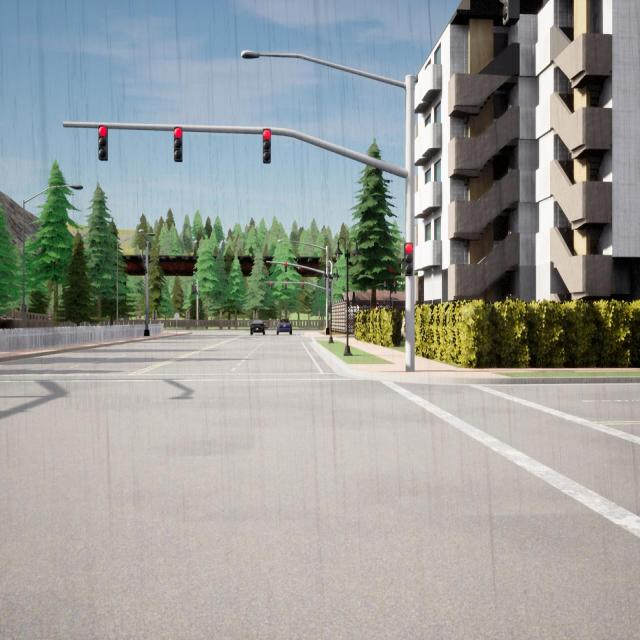Traffic_Signs: (174, 312, 180, 320)
Vehicle: (276, 318, 292, 335), (250, 320, 266, 336)
traffic_light: (499, 0, 520, 24), (99, 126, 108, 160), (404, 243, 413, 276), (174, 127, 182, 162), (263, 129, 271, 163), (284, 263, 287, 272), (142, 256, 144, 266), (270, 282, 272, 290), (284, 282, 286, 290), (302, 282, 304, 290), (198, 306, 200, 313), (192, 285, 193, 292), (194, 286, 195, 292)
